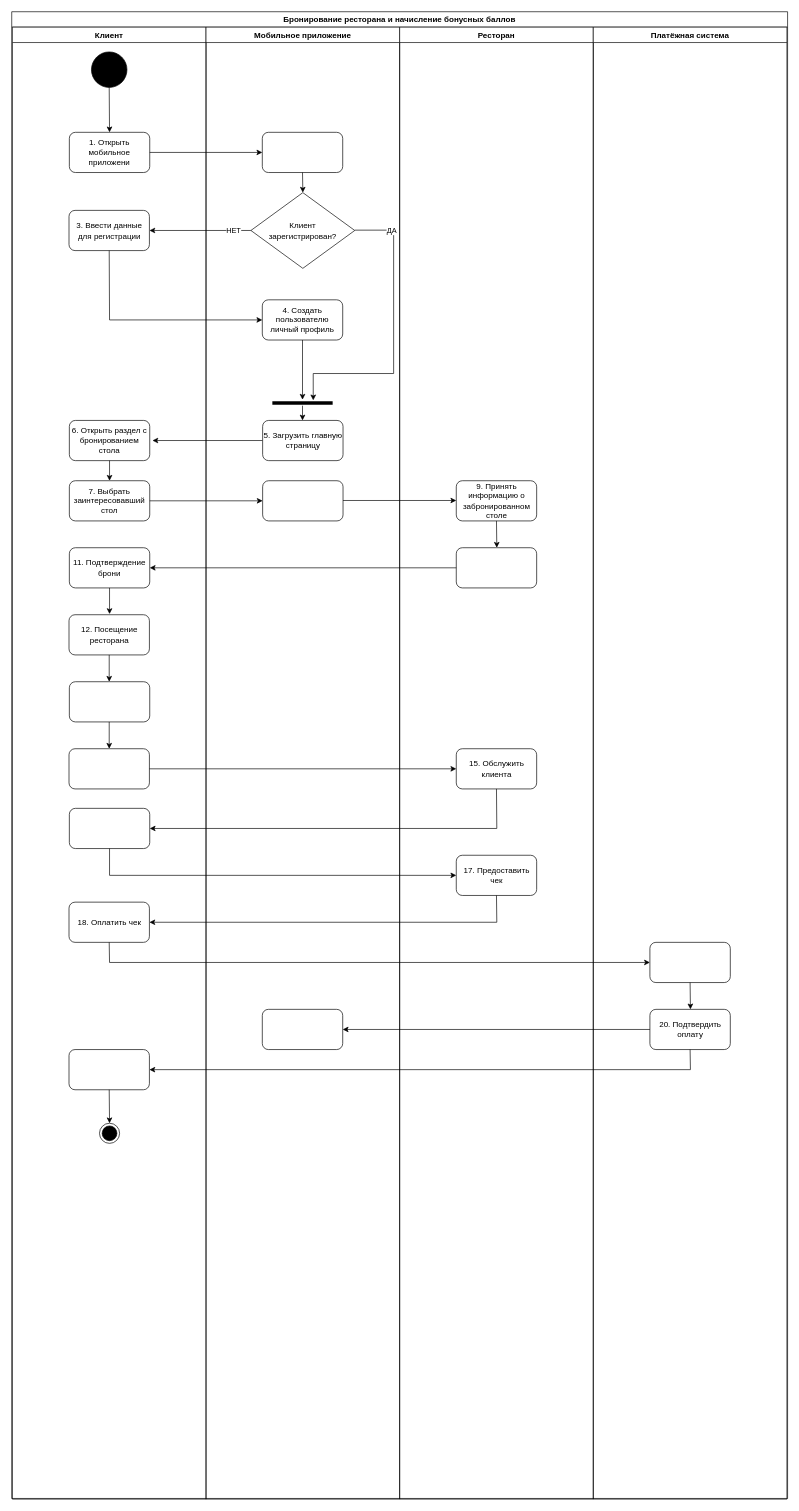
The diagram is 799 pixels wide and 1511 high, and some of its shapes have lost their labels. Each missing label, with the centre of its shape:
"10. Звонок клиенту за час до забронированного времени" goes at point 496,567.
"13. Занять забронированный стол" goes at point 109,701.
"14. Сделать заказ" goes at point 108,768.
"16. Попросить посчитать" goes at point 109,828.
"19. Обработать" goes at point 689,962.
"2. Открыть мобильное приложени" goes at point 302,152.
"21. Начислить бонусы клиенту на личный профиль" goes at point 302,1029.
"22. Покинуть ресторан" goes at point 108,1069.
"8. Заменить состояние стояла на забронированный" goes at point 302,500.
